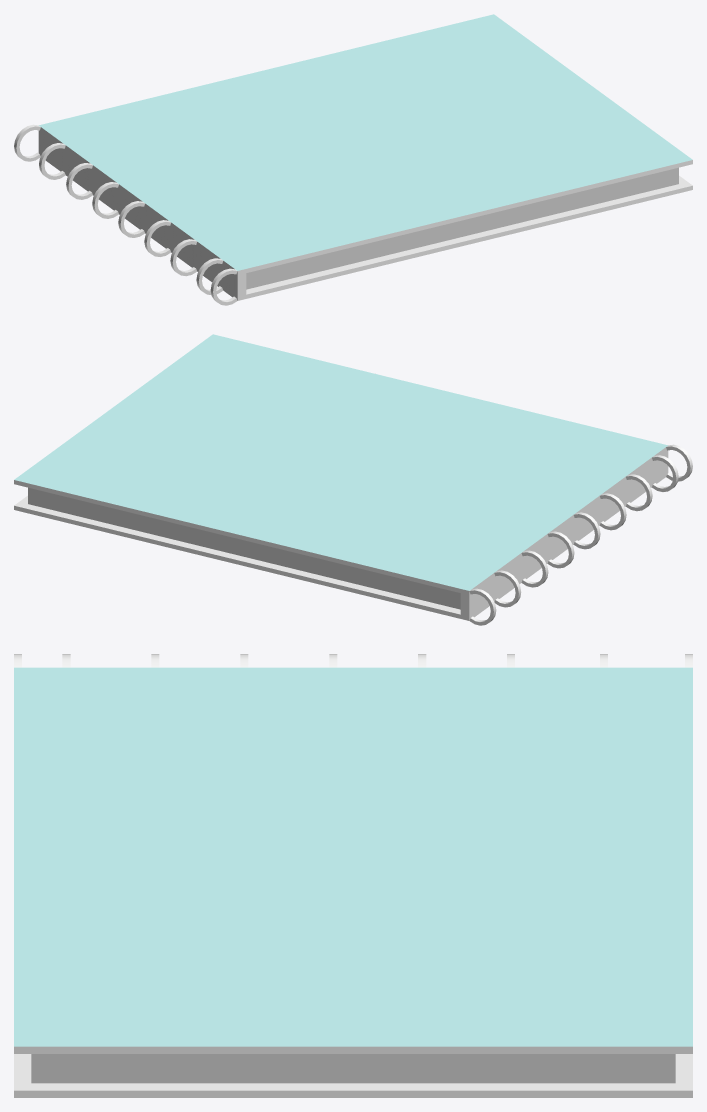
Rendered from Notepad.dae.
3 renders of one model, top to bottom at view 1: azimuth 30°, elevation 25°; view 2: azimuth 150°, elevation 25°; view 3: azimuth 270°, elevation 25°, orthographic. The views are drawn at different scales.
Parts seen in each view (by area): view 1: SketchUp (×3); view 2: SketchUp (×3); view 3: SketchUp (×3).
Boxes of the visible parts, x1,y1,x2,y2 form: SketchUp (×3): (14, 14, 692, 305); SketchUp (×3): (14, 334, 692, 625); SketchUp (×3): (14, 654, 692, 1097).
Size of the model in its own units: 46.06 by 33.07 by 3.12.
